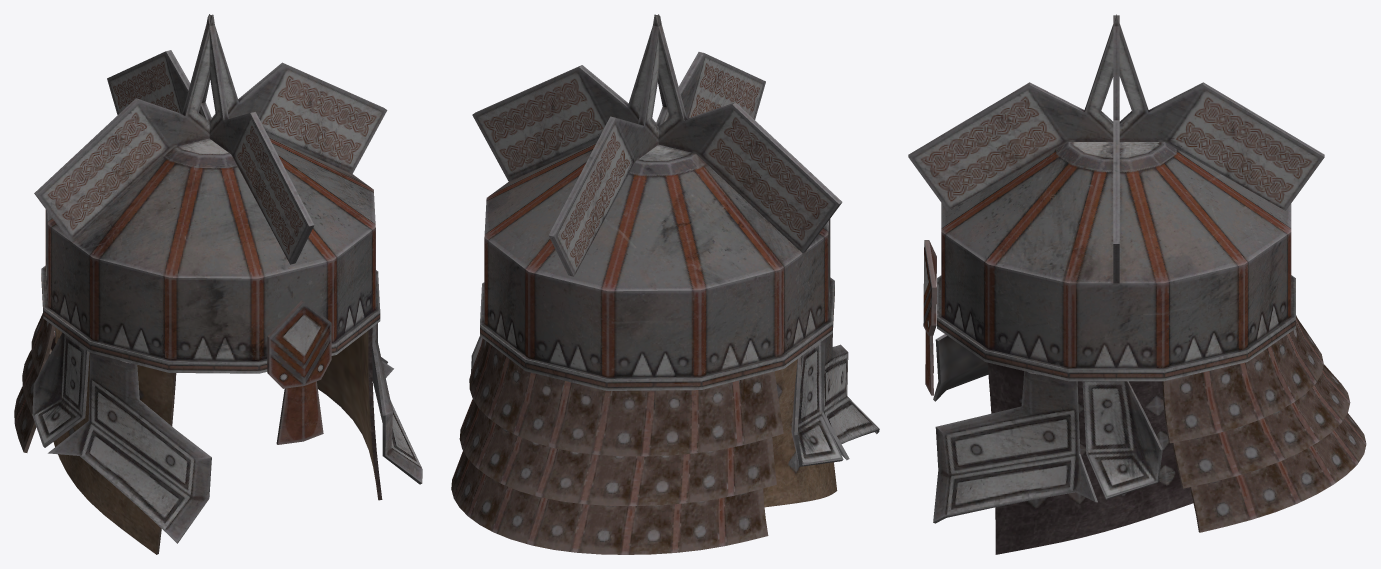
File: sk_dwarf_iron_helmet_heavy_a1.fbx
3 renders of one model, left to right at view 1: azimuth 30°, elevation 25°; view 2: azimuth 150°, elevation 25°; view 3: azimuth 270°, elevation 25°, orthographic. The views are drawn at different scales.
Parts seen in each view (by area): view 1: sk_dwarf_iron_helmet_heavy_a1; view 2: sk_dwarf_iron_helmet_heavy_a1; view 3: sk_dwarf_iron_helmet_heavy_a1.
Boxes of the visible parts, x1,y1,x2,y2 form: sk_dwarf_iron_helmet_heavy_a1: [14, 14, 422, 554]; sk_dwarf_iron_helmet_heavy_a1: [451, 14, 879, 554]; sk_dwarf_iron_helmet_heavy_a1: [908, 14, 1366, 554].
Bounding box in the file's own units: 0.3245 × 0.3572 × 0.4159.
